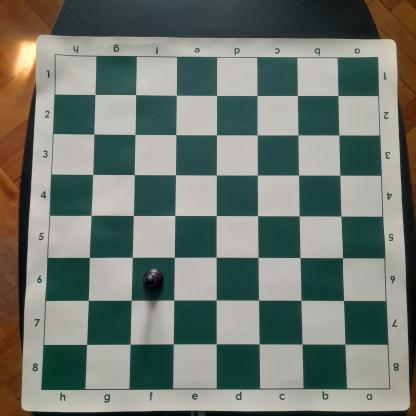black-pawn: (142, 268, 165, 291)
